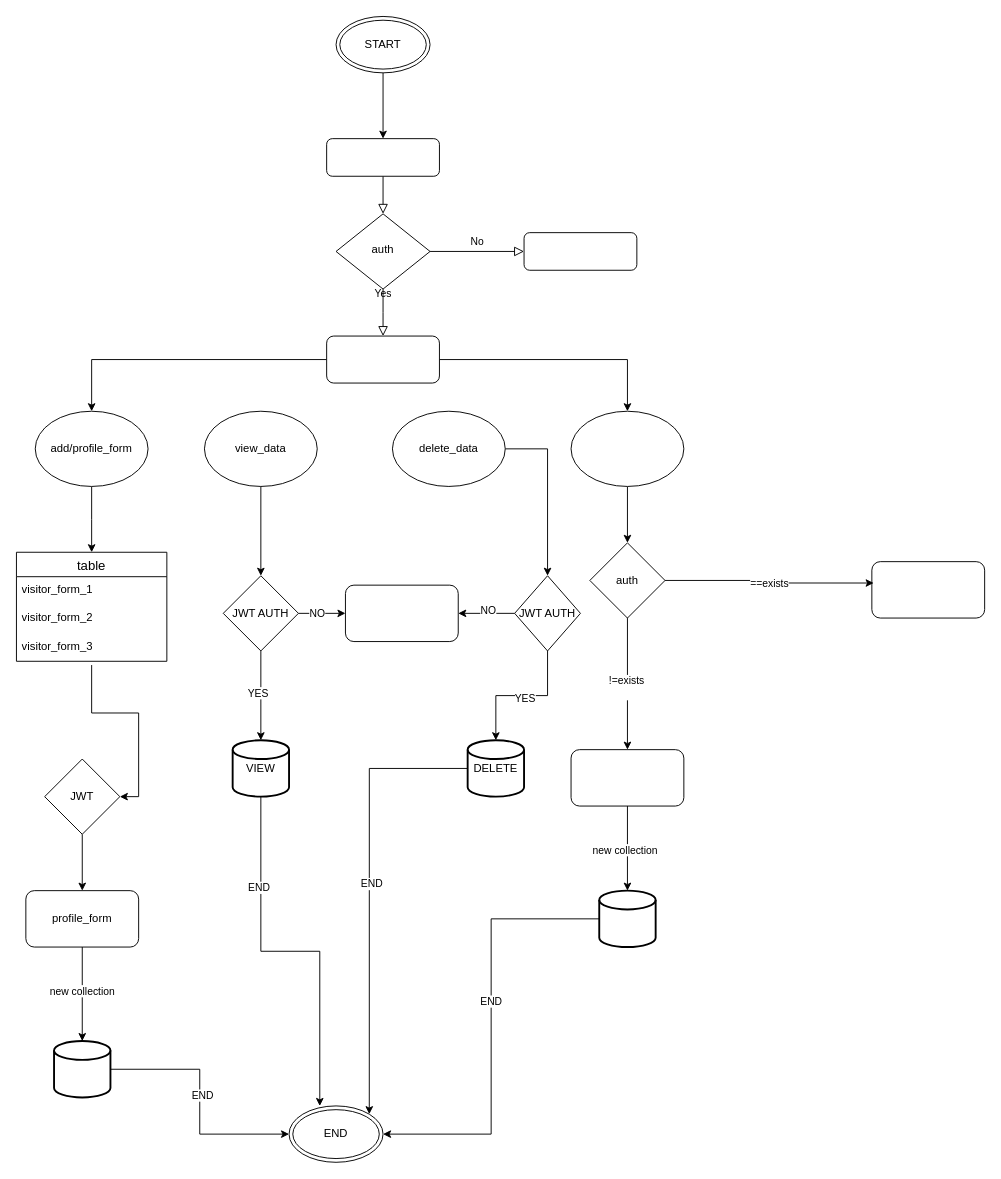
Image size: 1001x1179. Some labels were removed from this diagram. Here are the shapes that lost their labels. From the top down, the centre of each, then its label:
point 382,157: syndicate_login
point 580,251: ./syndicate_login
point 382,359: syndicate_dashboard
point 627,448: add/visitor_form
point 928,589: user exists page reload
point 401,613: USER NOT FOUND
point 627,777: visitor_form
